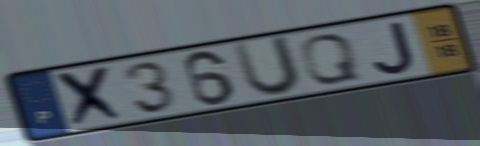3: (121, 61, 179, 114)
6: (182, 47, 238, 108)
J: (371, 19, 419, 76)
Q: (297, 32, 364, 86)
U: (229, 33, 305, 99)
X: (52, 62, 131, 131)
